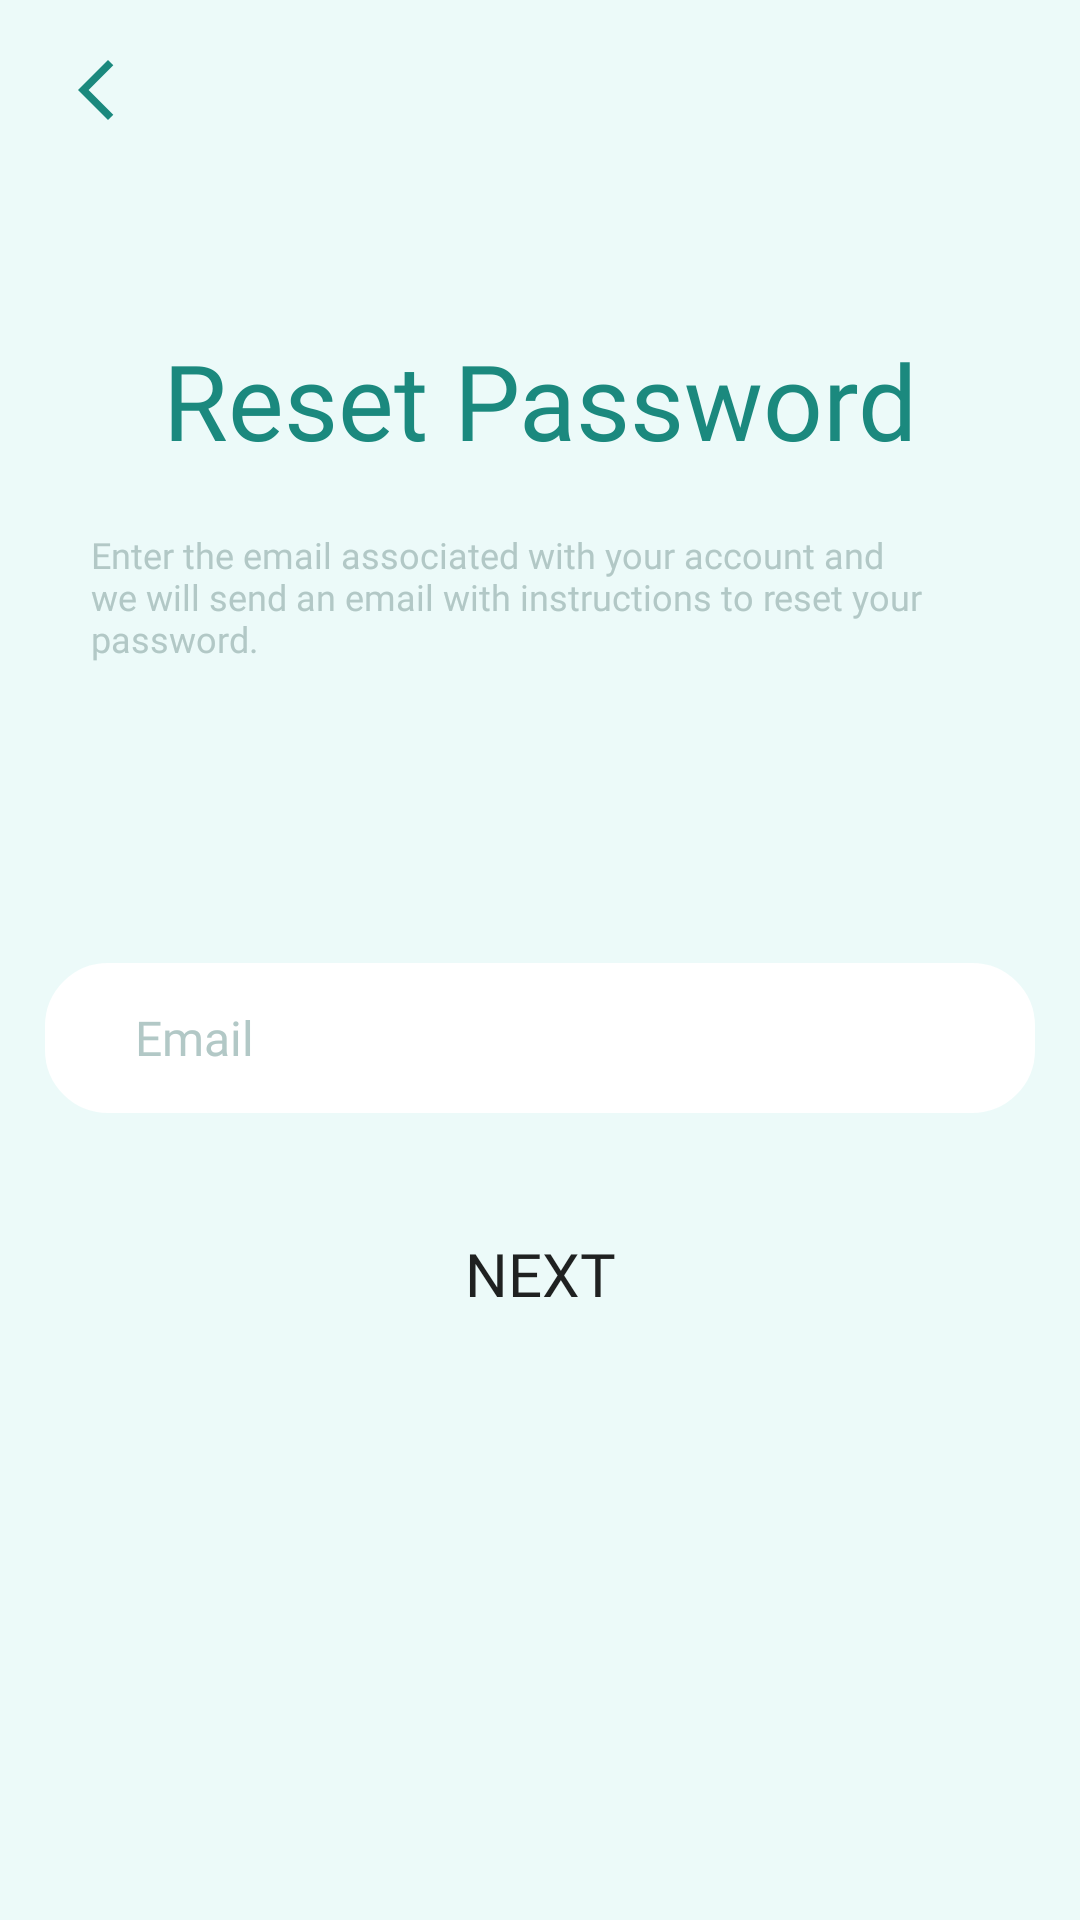

Icon bounding boxes for this 1080x1920 phone screenshot, format (x1,y1,x2,y2):
arrow: (78,60,113,120)
